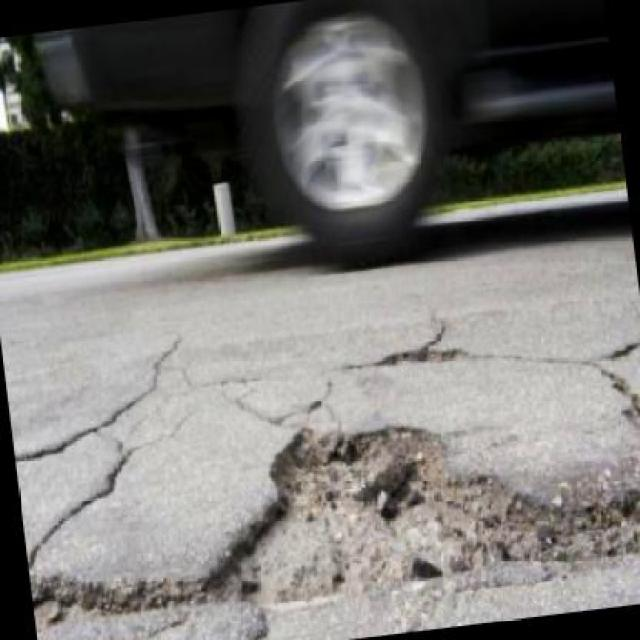pothole1: (178, 386, 572, 623)
